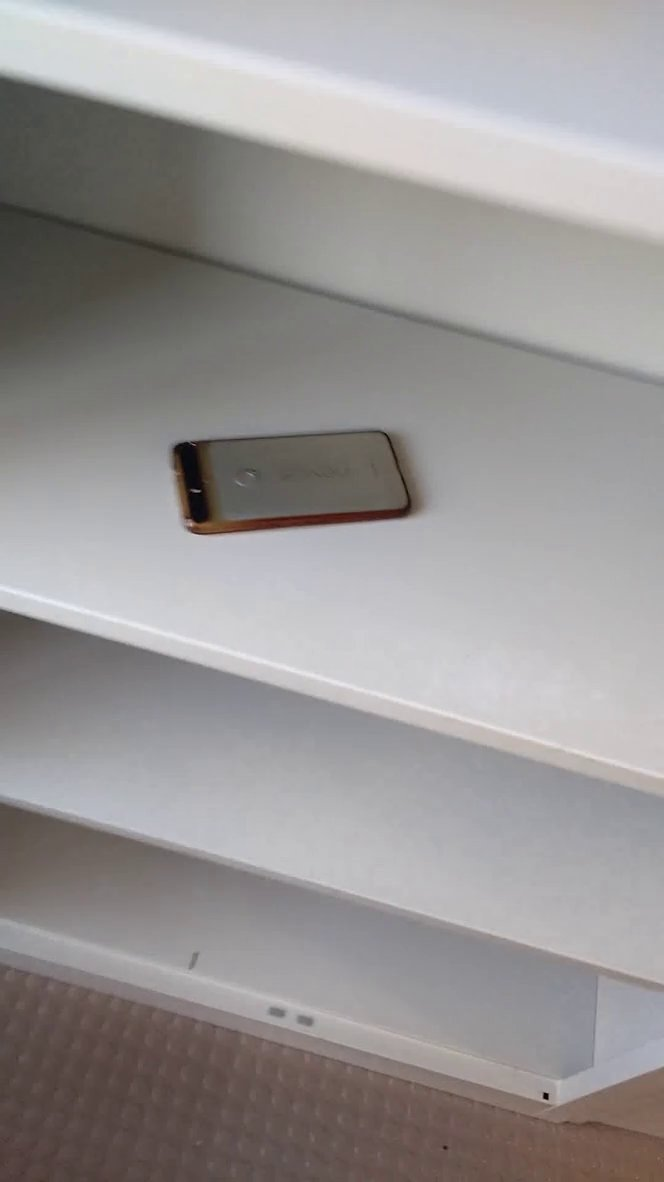phone: (164, 414, 423, 547)
